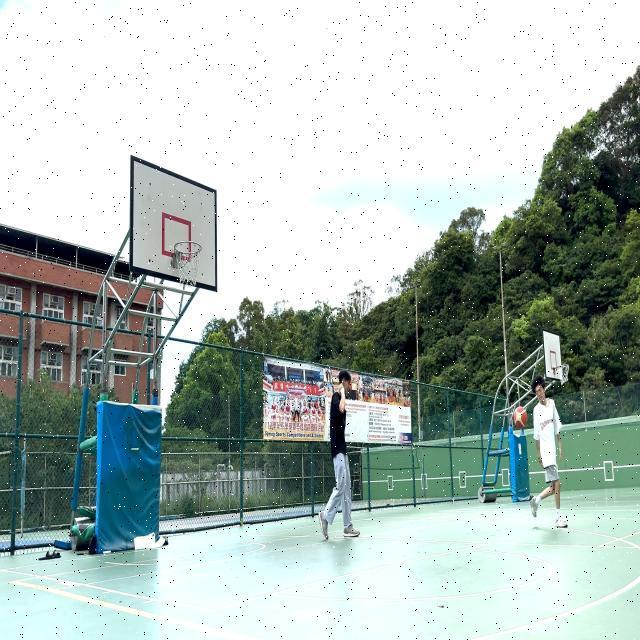ball: (514, 406, 528, 429)
hoop: (172, 240, 205, 259), (551, 363, 575, 370)
